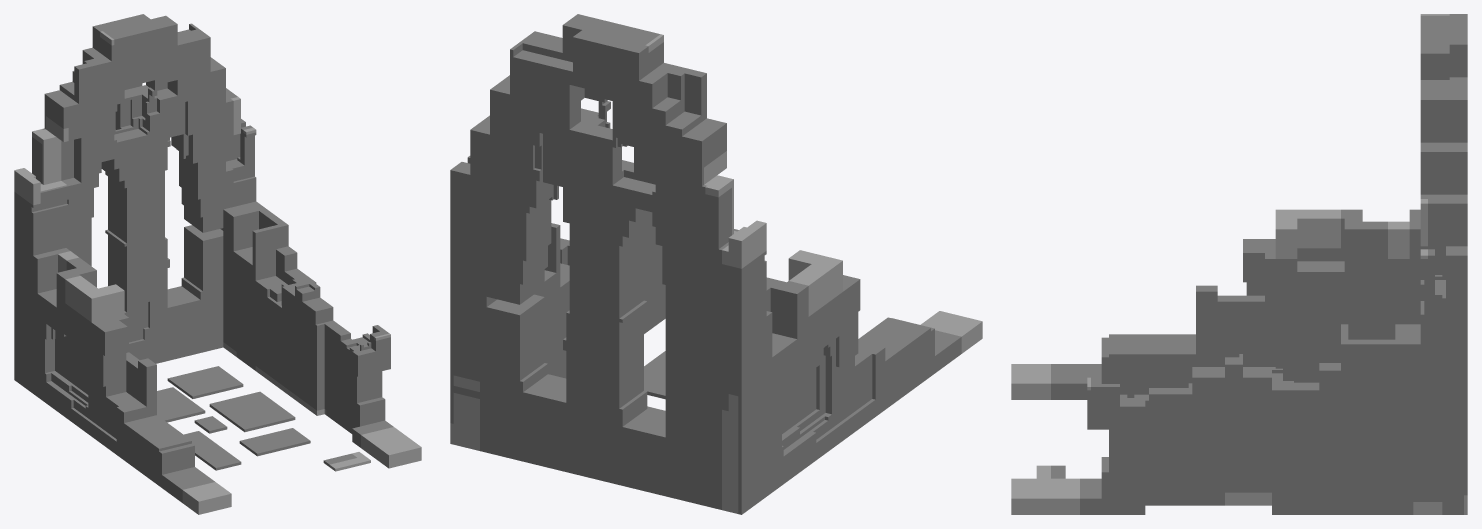
Rendered from Ruins.fbx.
The picture shows the model from 3 angles, left to right: view 1: azimuth 30°, elevation 25°; view 2: azimuth 150°, elevation 25°; view 3: azimuth 270°, elevation 25°; orthographic projection. The views are drawn at different scales.
Parts seen in each view (by area): view 1: root; view 2: root; view 3: root.
Boxes of the visible parts, x1,y1,x2,y2 form: root: [14, 14, 421, 514]; root: [450, 14, 982, 514]; root: [1011, 14, 1467, 514].
Size of the model in its own units: 0.3576 by 0.512 by 0.512.
1 material, 1 textured.
